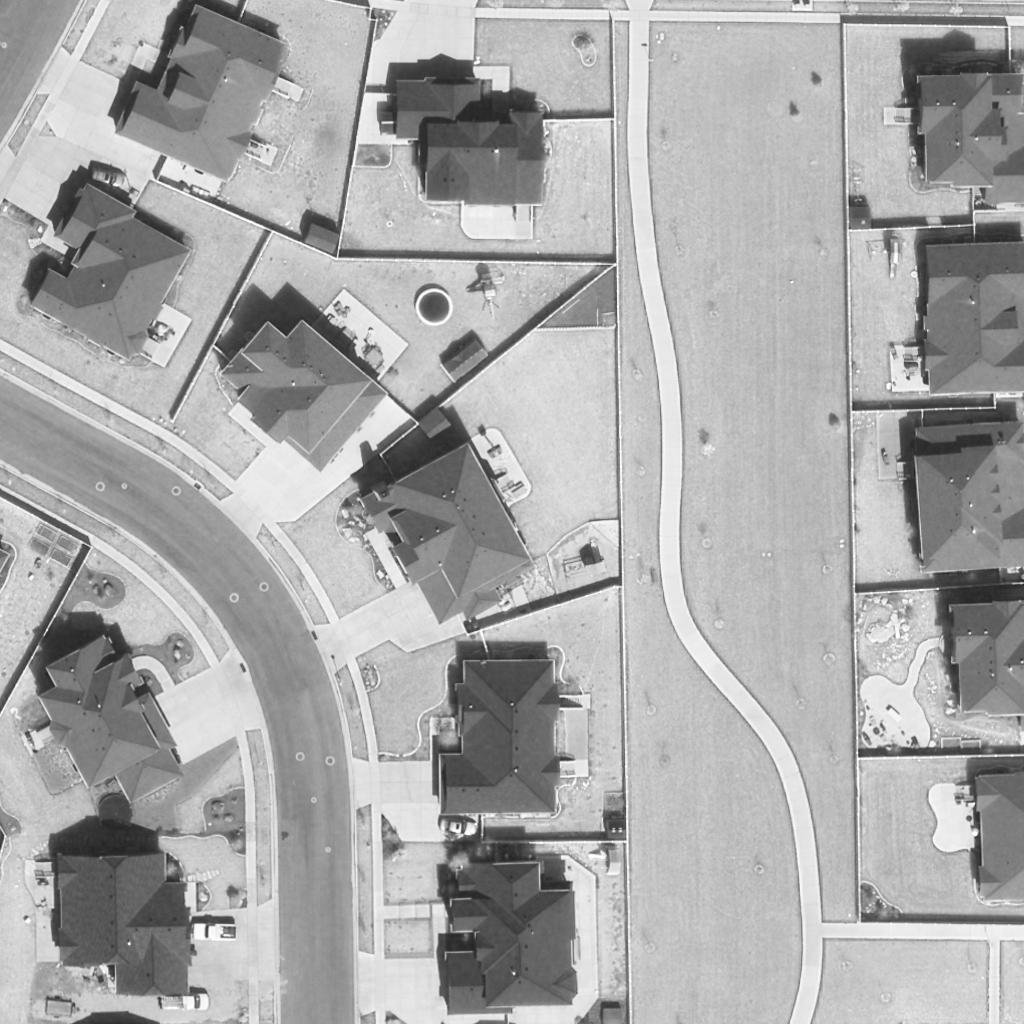vehicle: (191, 923, 239, 943), (159, 992, 211, 1010), (436, 817, 482, 837), (89, 170, 129, 188)
